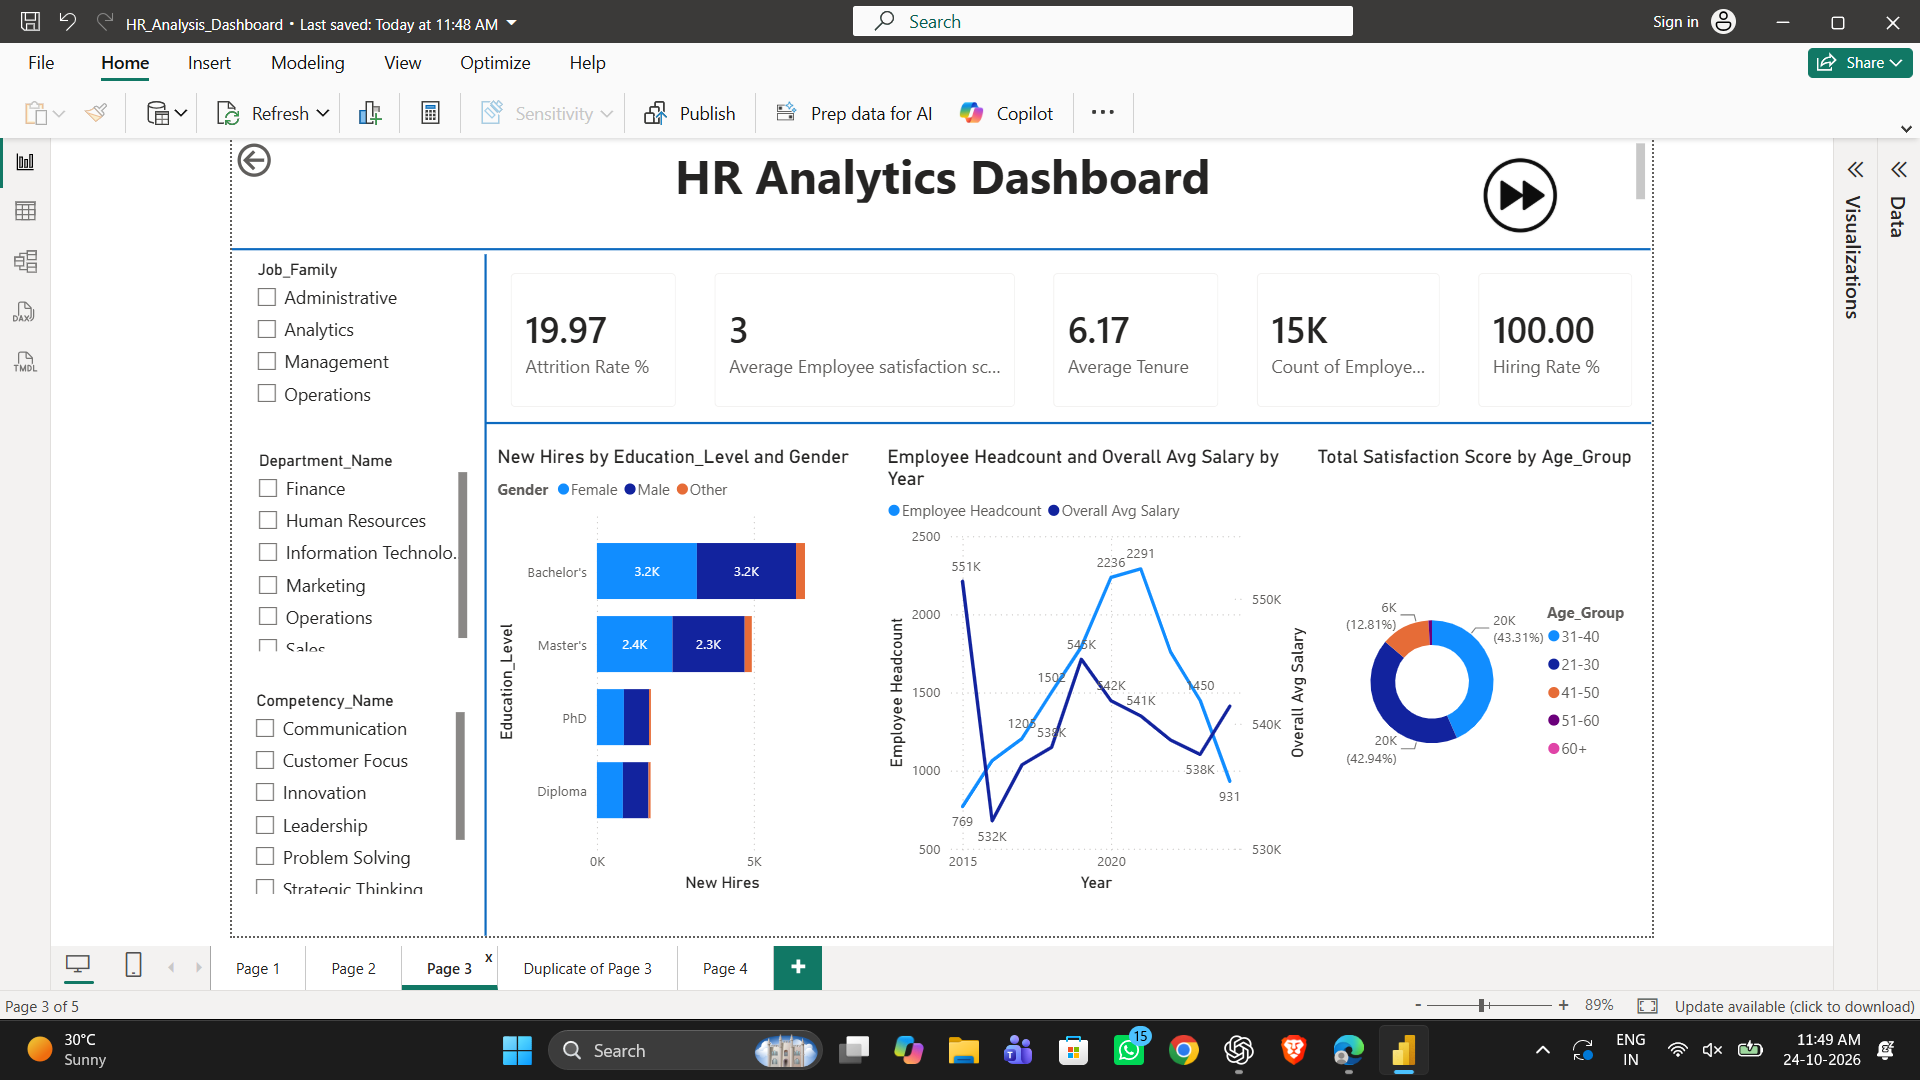

What the dashboard file says about the page in this screenshot:
{"tool":"powerbi","page":{"name":"Page 3","canvas":[1280,720],"ordinal":2},"visuals":[{"type":"textbox","box":[10.6,0,1268.9,63.6],"z":0},{"type":"shape","box":[0,105.2,457.3,614.8],"z":1000},{"type":"shape","box":[0,0,1279.1,200.5],"z":2000},{"type":"slicer","fields":{"Values":["Dim_JobRole.Job_Family"]},"box":[10.6,104.5,205.9,192.3],"z":3000},{"type":"slicer","fields":{"Values":["Dim_Department.Department_Name"]},"box":[11.3,277.8,206,190.9],"z":4000},{"type":"slicer","fields":{"Values":["Dim_Competency.Competency_Name"]},"box":[9.4,493.2,206,192.8],"z":5000},{"type":"cardVisual","fields":{"Data":["HR_Fact.Attrition Rate %"]},"box":[234.2,104.4,183.5,155.1],"z":6000},{"type":"cardVisual","fields":{"Data":["HR_Fact.Average Employee satisfaction score"]},"box":[417.7,104.4,305.8,155.1],"z":7000},{"type":"cardVisual","fields":{"Data":["CountNonNull(HR_Fact.Employee_ID)"]},"box":[907,104.4,199.9,155.1],"z":8000},{"type":"cardVisual","fields":{"Data":["HR_Fact.Hiring Rate %"]},"box":[1106.9,104.4,173,155.1],"z":9000},{"type":"cardVisual","fields":{"Data":["HR_Fact.Average Tenure"]},"box":[723.5,104.4,183.5,155.1],"z":10000},{"type":"barChart","fields":{"Category":["Dim_Education.Education_Level"],"Y":["HR_Fact.New Hires"],"Series":["HR_Fact.Gender"]},"box":[234.7,277.1,333.1,407.3],"z":11000},{"type":"donutChart","fields":{"Y":["HR_Fact.Total Satisfaction Score"],"Category":["HR_Fact.Age_Group"]},"box":[973.6,277.1,305.9,407.3],"z":12000},{"type":"lineChart","fields":{"Y":["HR_Fact.Employee Headcount"],"Y2":["Bridge_DeptLocation.Overall Avg Salary"],"Category":["HR_Fact.Date_of_Joining.Variation.Date Hierarchy.Year"]},"box":[586,277.1,387.6,407.3],"z":13000},{"type":"shape","box":[228.6,152.9,1050.9,207.4],"z":14000},{"type":"actionButton","box":[0,0,100,40],"z":15000},{"type":"image","box":[1088.1,9.6,148.3,82.8],"z":16000}]}

Visuals, with their boxes on the page's 1280x720 design canvas (x1, y1, x2, y2). These are canvas units, not pixel positions in the 1920x1080 screenshot, which may show the page scaled, cropped or inside an application window:
textbox: <bbox>11, 0, 1280, 64</bbox>
shape: <bbox>0, 105, 457, 720</bbox>
shape: <bbox>0, 0, 1279, 200</bbox>
slicer - Dim_JobRole.Job_Family: <bbox>11, 104, 216, 297</bbox>
slicer - Dim_Department.Department_Name: <bbox>11, 278, 217, 469</bbox>
slicer - Dim_Competency.Competency_Name: <bbox>9, 493, 215, 686</bbox>
cardVisual - HR_Fact.Attrition Rate %: <bbox>234, 104, 418, 260</bbox>
cardVisual - HR_Fact.Average Employee satisfaction score: <bbox>418, 104, 724, 260</bbox>
cardVisual - CountNonNull(HR_Fact.Employee_ID): <bbox>907, 104, 1107, 260</bbox>
cardVisual - HR_Fact.Hiring Rate %: <bbox>1107, 104, 1280, 260</bbox>
cardVisual - HR_Fact.Average Tenure: <bbox>724, 104, 907, 260</bbox>
barChart - Dim_Education.Education_Level x HR_Fact.New Hires: <bbox>235, 277, 568, 684</bbox>
donutChart - HR_Fact.Total Satisfaction Score x HR_Fact.Age_Group: <bbox>974, 277, 1280, 684</bbox>
lineChart - HR_Fact.Employee Headcount x Bridge_DeptLocation.Overall Avg Salary: <bbox>586, 277, 974, 684</bbox>
shape: <bbox>229, 153, 1280, 360</bbox>
actionButton: <bbox>0, 0, 100, 40</bbox>
image: <bbox>1088, 10, 1236, 92</bbox>
